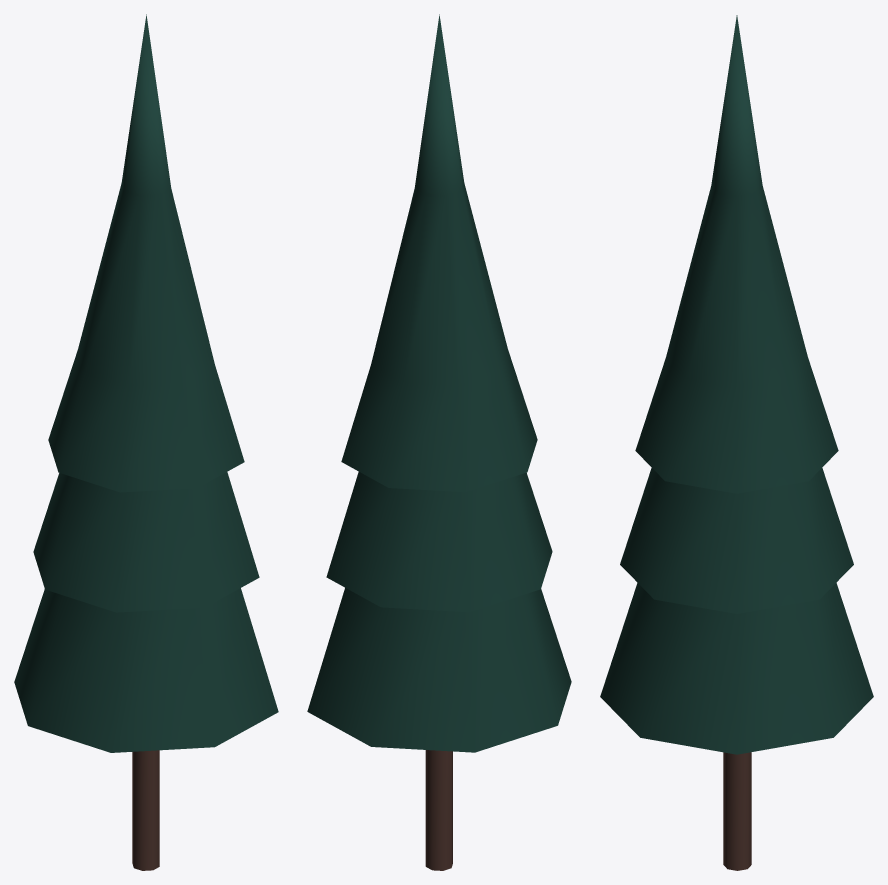
File: Tree2.glb
The picture shows the model from 3 angles, left to right: view 1: azimuth 30°, elevation 25°; view 2: azimuth 150°, elevation 25°; view 3: azimuth 270°, elevation 25°; orthographic projection.
Parts seen in each view (by area): view 1: Tree2; view 2: Tree2; view 3: Tree2.
Boxes of the visible parts, <box> form: Tree2: <box>14,14,278,870</box>; Tree2: <box>307,14,571,870</box>; Tree2: <box>600,15,873,870</box>.
Size of the model in its own units: 0.1779 by 0.6105 by 0.1779.
